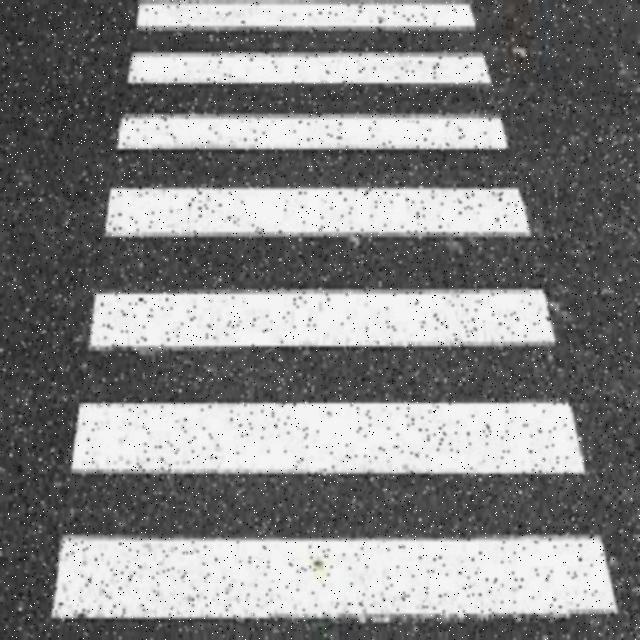Pedestrian crosswalk: (49, 0, 620, 623)
